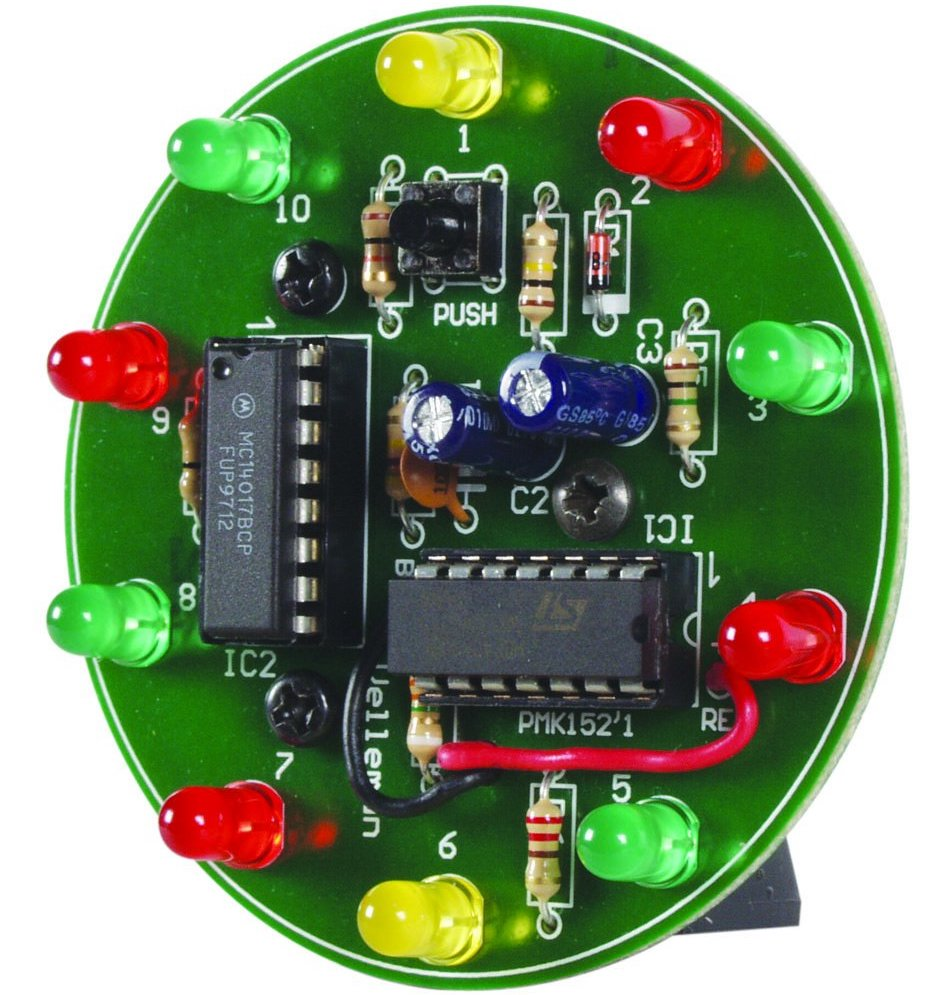Capacitor: (399, 382, 563, 479), (498, 349, 659, 446)
Diode: (580, 225, 613, 302)
LED: (595, 93, 727, 194), (724, 318, 855, 419), (373, 25, 506, 121), (717, 589, 847, 686), (572, 793, 699, 891), (354, 874, 485, 968), (156, 777, 285, 871), (165, 113, 293, 205), (46, 578, 171, 670), (47, 320, 168, 409)
Resistor: (517, 215, 560, 328), (661, 346, 705, 453), (357, 196, 399, 301), (523, 801, 565, 899), (404, 675, 443, 767), (383, 403, 407, 503), (178, 412, 199, 513)
